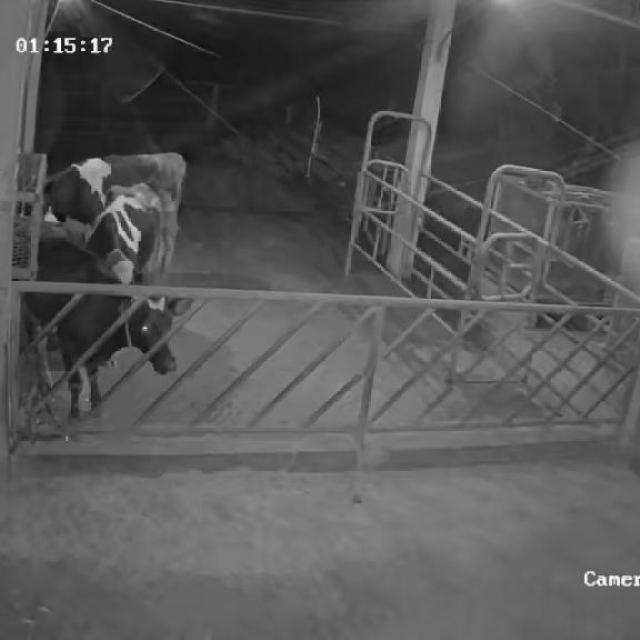standing: (15, 231, 184, 426), (19, 148, 188, 264)
